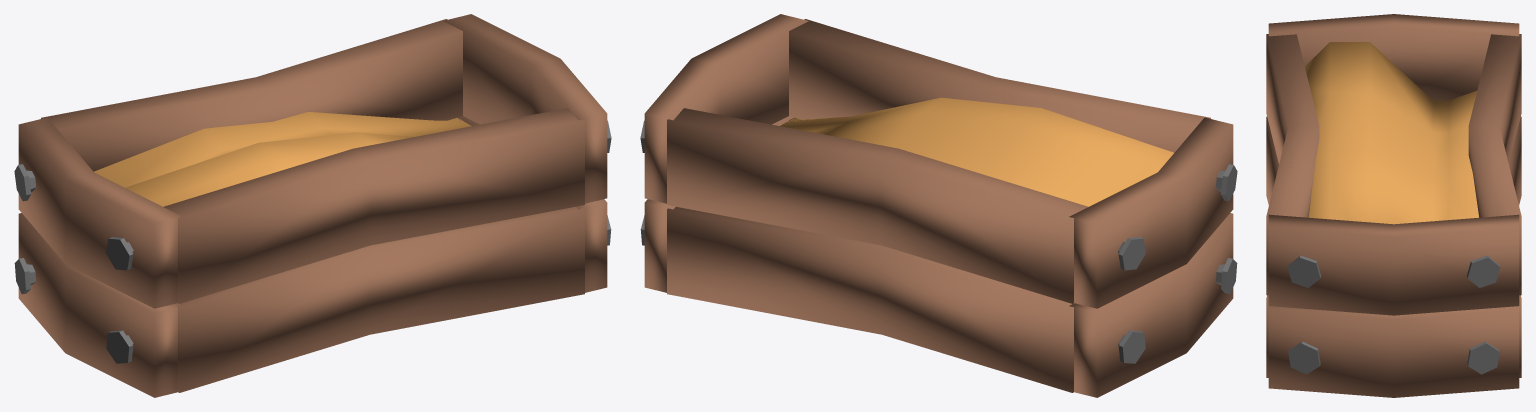
The model's file is Yalak.fbx.
3 views of the same model, side by side, from view 1: azimuth 30°, elevation 25°; view 2: azimuth 150°, elevation 25°; view 3: azimuth 270°, elevation 25° (orthographic). The views are drawn at different scales.
Parts seen in each view (by area): view 1: Bake'li.006; view 2: Bake'li.006; view 3: Bake'li.006.
Part boxes in pixels (left/top/right/bottom): Bake'li.006: left=14, top=14, right=611, bottom=397; Bake'li.006: left=640, top=14, right=1237, bottom=397; Bake'li.006: left=1266, top=14, right=1521, bottom=397.
Size of the model in its own units: 1.22 by 0.4206 by 0.5907.
